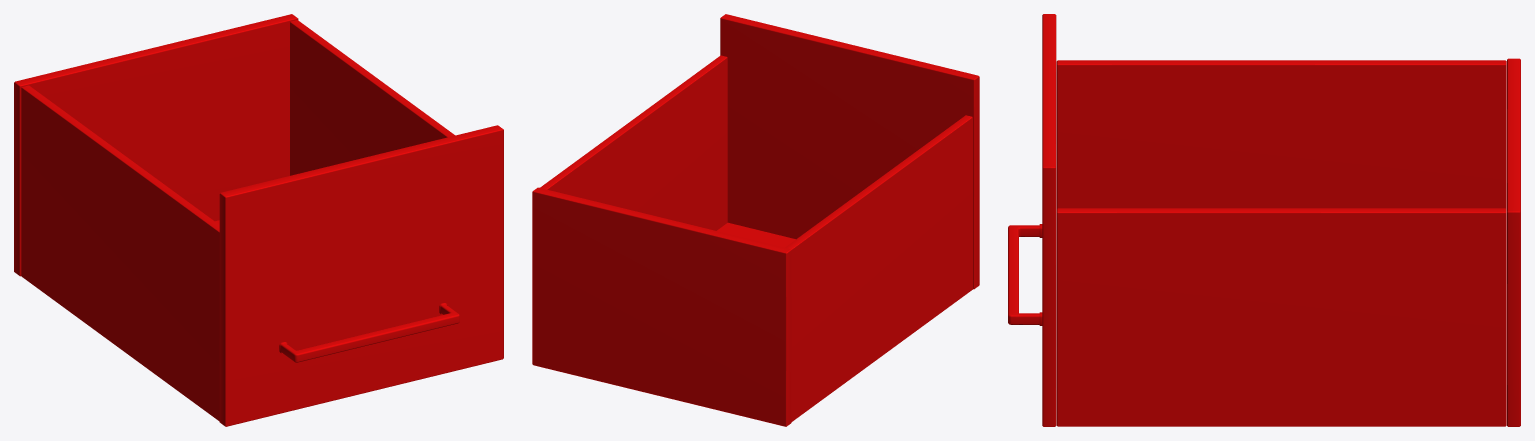
File: Table_2_3.fbx
The picture shows the model from 3 angles, left to right: view 1: azimuth 30°, elevation 25°; view 2: azimuth 150°, elevation 25°; view 3: azimuth 270°, elevation 25°; orthographic projection. The views are drawn at different scales.
Parts seen in each view (by area): view 1: L25:polySurface1191; view 2: L25:polySurface1191; view 3: L25:polySurface1191.
Boxes of the visible parts, bbox=[...] form: L25:polySurface1191: bbox=[14, 14, 503, 426]; L25:polySurface1191: bbox=[532, 14, 979, 426]; L25:polySurface1191: bbox=[1008, 14, 1520, 426].
Bounding box in the file's own units: 47.59 × 37.56 × 67.07.
